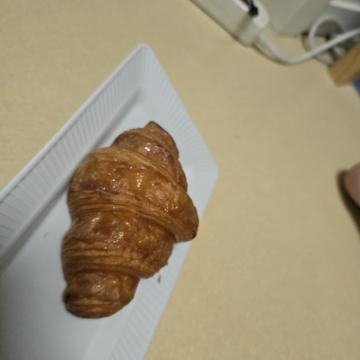croissant: (114, 158, 323, 307)
